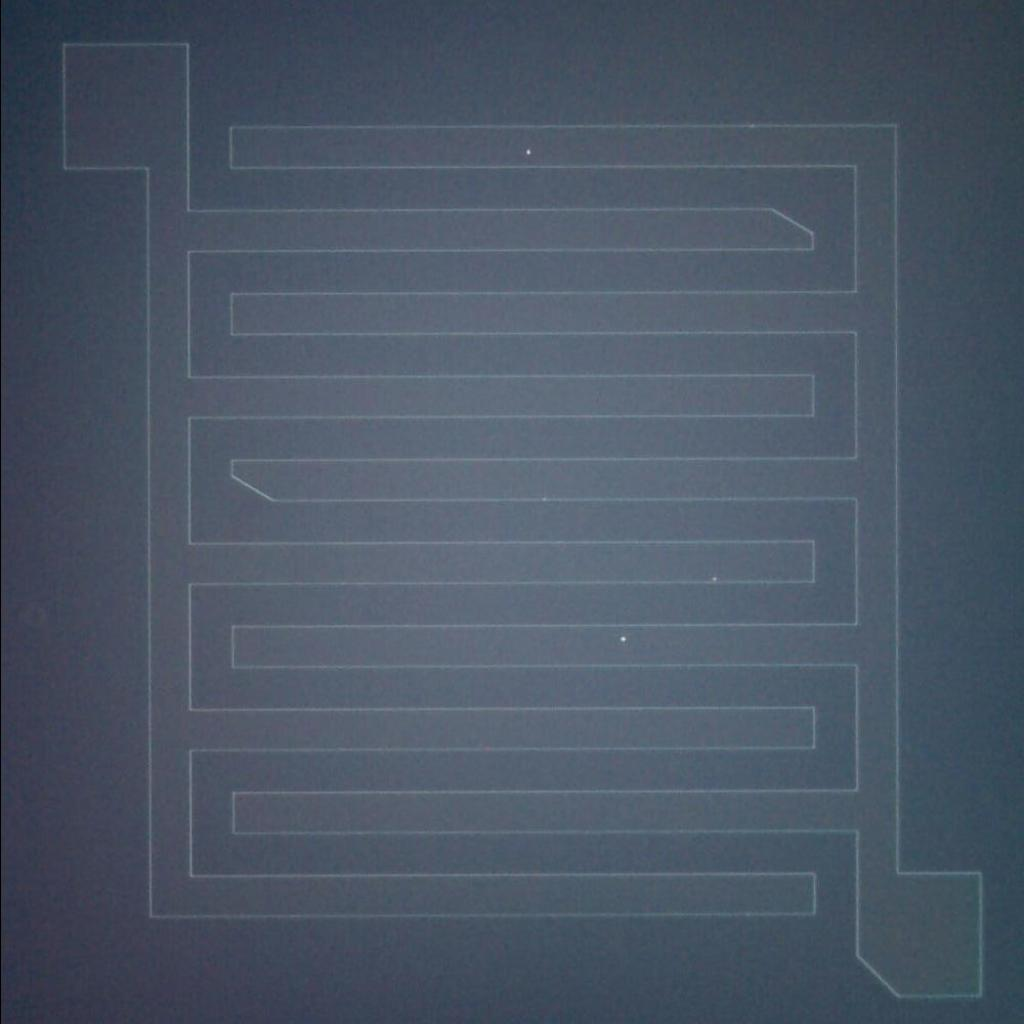dot: (511, 135, 543, 163), (606, 625, 638, 653)
edge circuit: (841, 938, 911, 1010), (755, 194, 826, 264), (217, 447, 288, 515)
